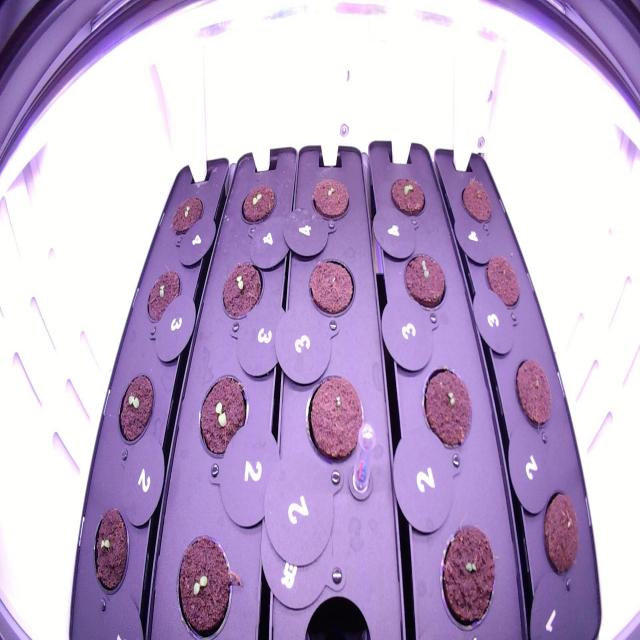germination: (431, 514, 500, 634), (171, 522, 240, 639), (299, 368, 368, 471), (194, 366, 252, 474), (418, 360, 476, 456), (88, 502, 134, 604), (113, 366, 158, 451), (399, 245, 449, 318), (216, 254, 264, 326), (307, 166, 355, 228), (384, 165, 429, 223), (142, 266, 184, 328), (237, 175, 282, 231), (168, 190, 206, 238)
pod: (537, 482, 583, 588), (510, 353, 558, 436), (304, 250, 359, 320), (479, 248, 524, 312), (458, 172, 496, 227)
